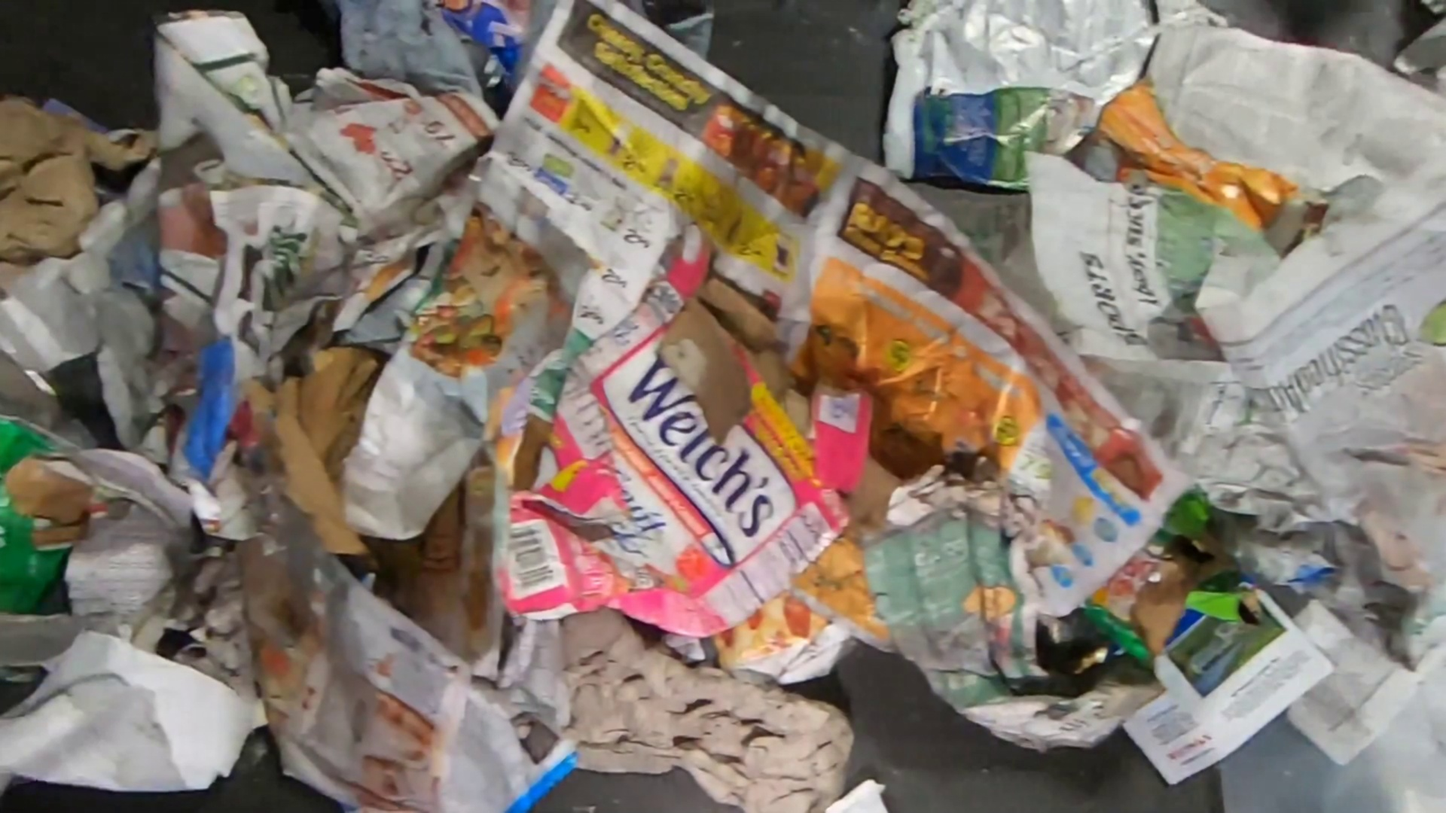cardboard: (495, 222, 907, 641), (1062, 75, 1331, 259), (0, 413, 110, 616)
